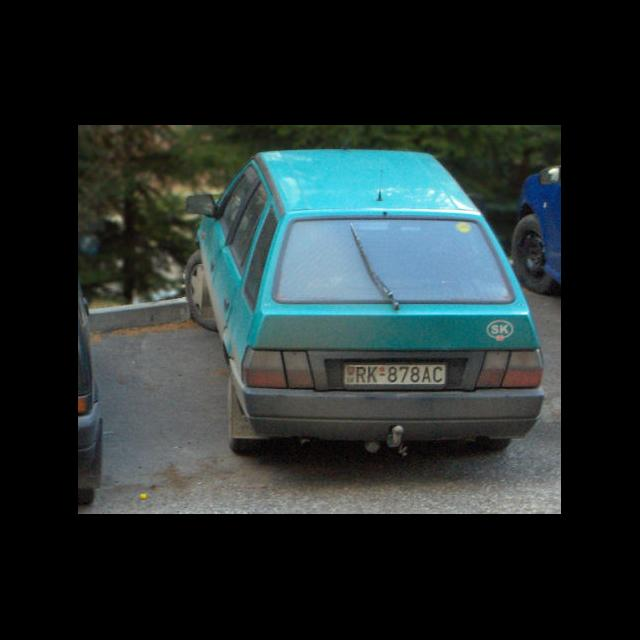Plate: (342, 360, 448, 388)
